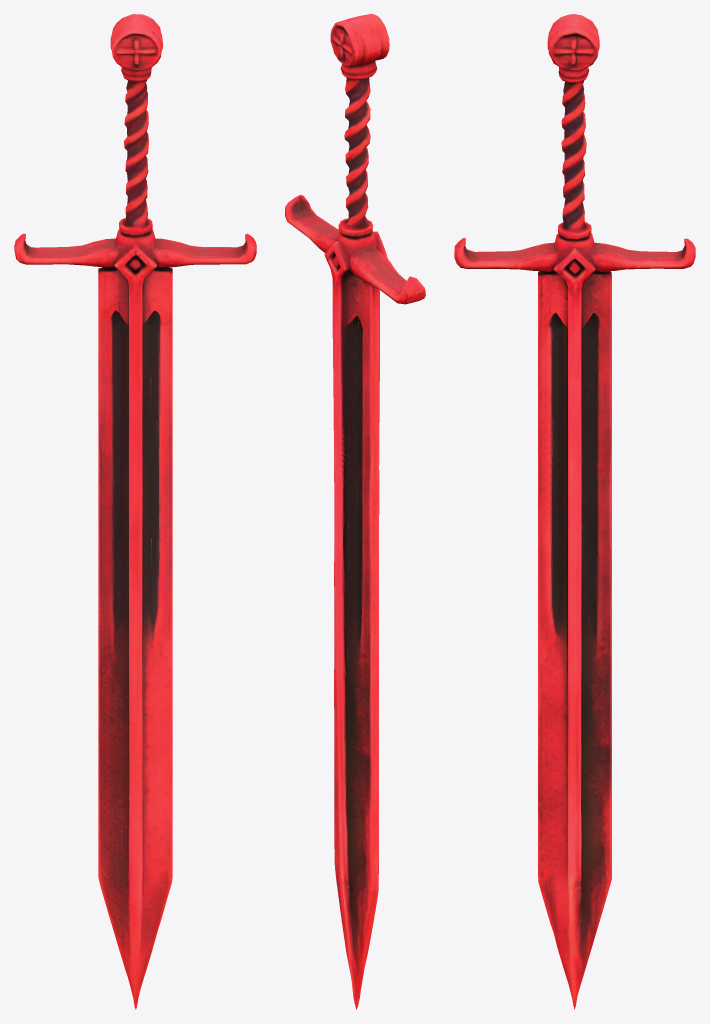
File: base_basic_shaded.fbx
3 renders of one model, left to right at view 1: azimuth 90°, elevation 25°; view 2: azimuth 210°, elevation 25°; view 3: azimuth 270°, elevation 25°, orthographic.
Visible parts, largest first — view 1: model; view 2: model; view 3: model.
Part boxes in pixels (<box>): model: <box>14,14,256,1009</box>; model: <box>285,14,425,1009</box>; model: <box>454,14,695,1009</box>.
Size of the model in its own units: 9.36 by 190 by 42.16.
